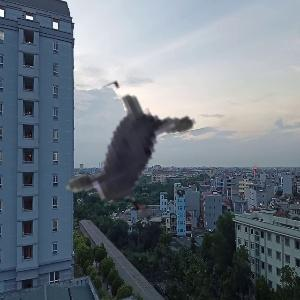drone: (13, 43, 240, 270)
